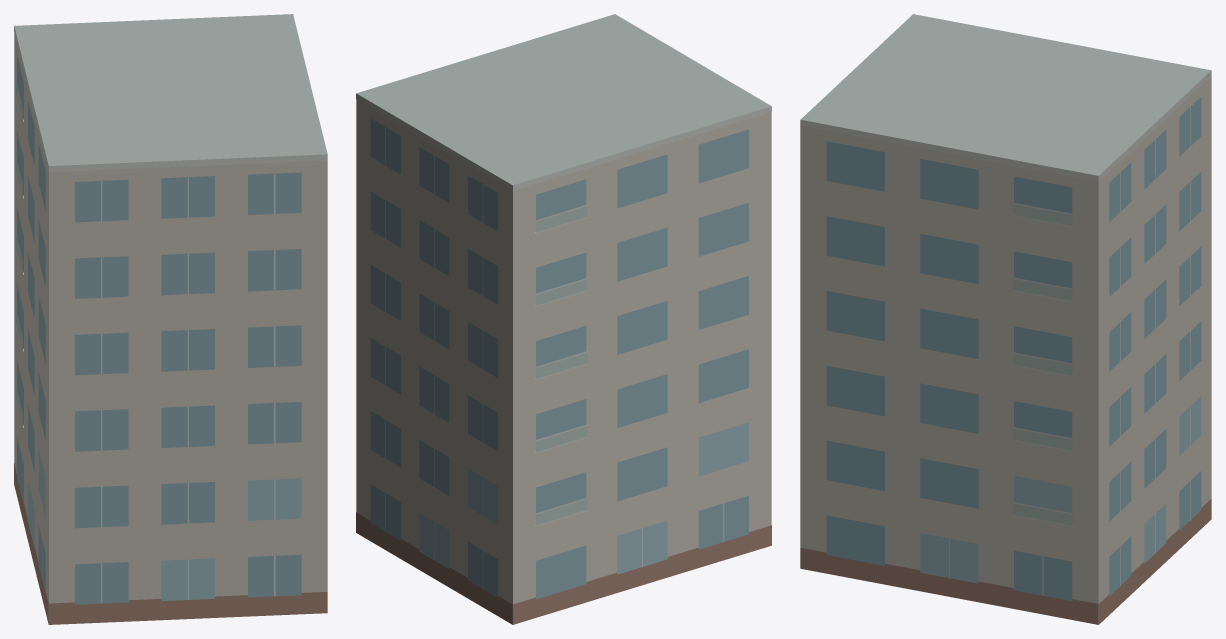
The model's file is survey-upis-32672015.glb.
3 renders of one model, left to right at view 1: azimuth 30°, elevation 25°; view 2: azimuth 150°, elevation 25°; view 3: azimuth 270°, elevation 25°, orthographic. The views are drawn at different scales.
Visible parts, largest first — view 1: survey-upis-32672015.tmp; view 2: survey-upis-32672015.tmp; view 3: survey-upis-32672015.tmp.
Part boxes in pixels (box(x1,y1,x2,y2)): survey-upis-32672015.tmp: box(14, 14, 327, 624); survey-upis-32672015.tmp: box(356, 14, 771, 624); survey-upis-32672015.tmp: box(800, 14, 1211, 624).
Size of the model in its own units: 14.16 by 18.3 by 15.2.
